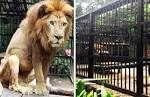lion: (1, 5, 78, 97)
